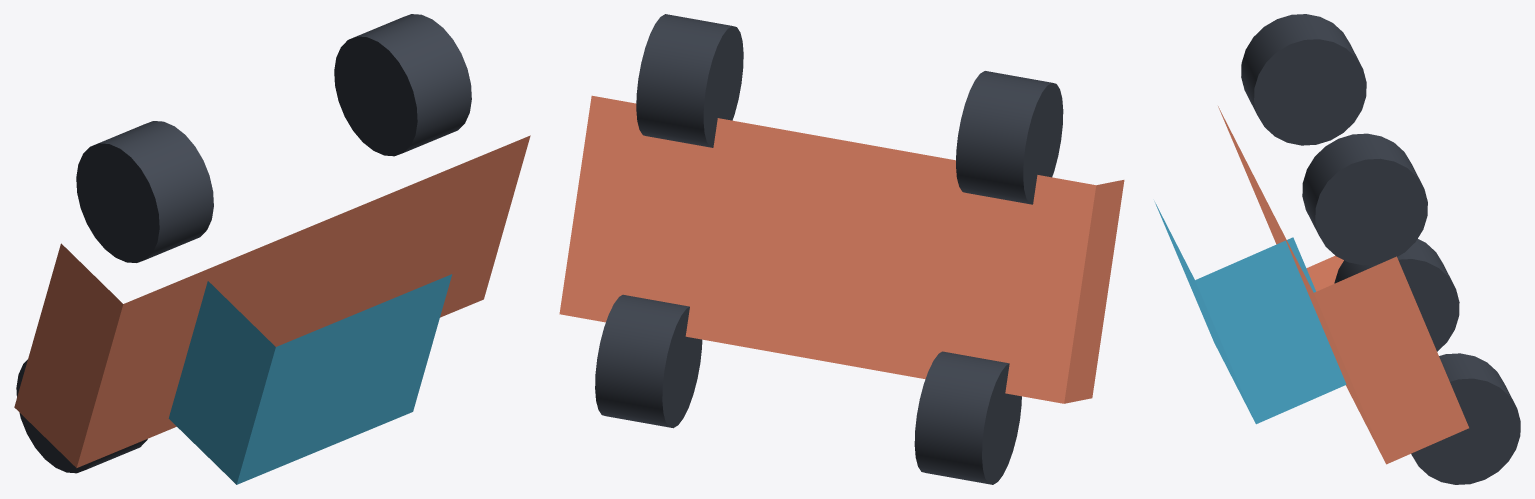
The model's file is color-sample-car.glb.
3 renders of one model, left to right at view 1: azimuth 30°, elevation 25°; view 2: azimuth 150°, elevation 25°; view 3: azimuth 270°, elevation 25°, orthographic. The views are drawn at different scales.
Size of the model in its own units: 1.24 by 0.9101 by 0.8913.
